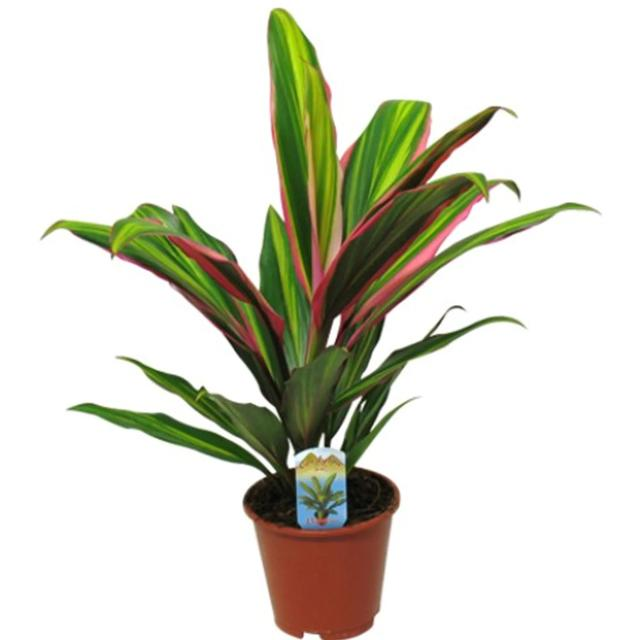Ti: (32, 7, 604, 516)
